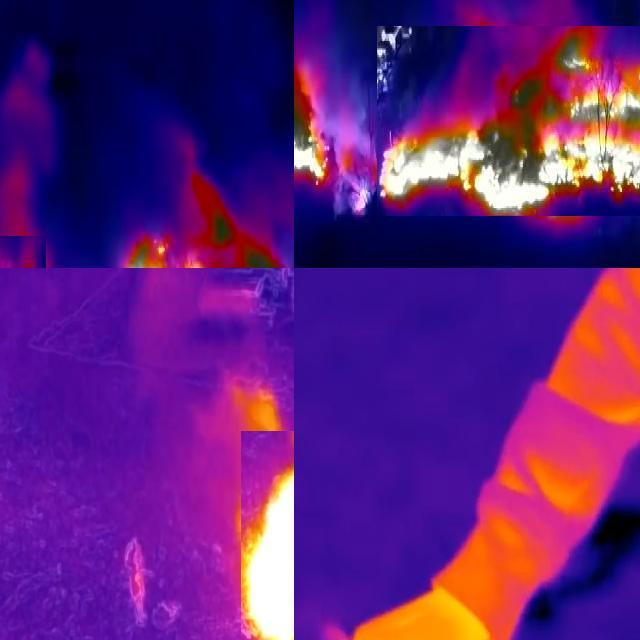fire: (378, 27, 640, 217), (58, 206, 295, 269), (295, 67, 372, 215), (242, 432, 295, 640)
